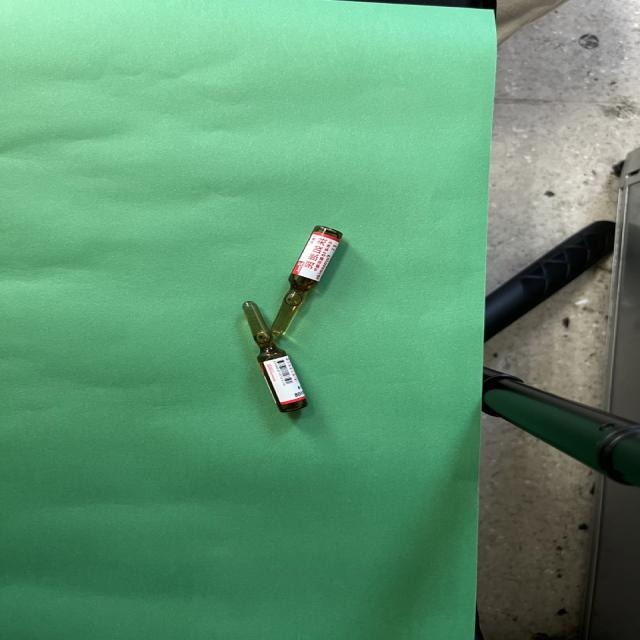Ampoules: (271, 226, 342, 336), (243, 301, 307, 412)
